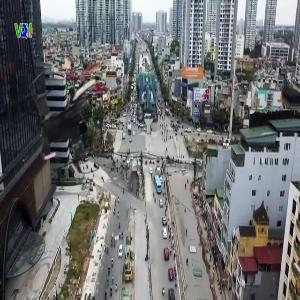drone: (16, 59, 138, 181)
